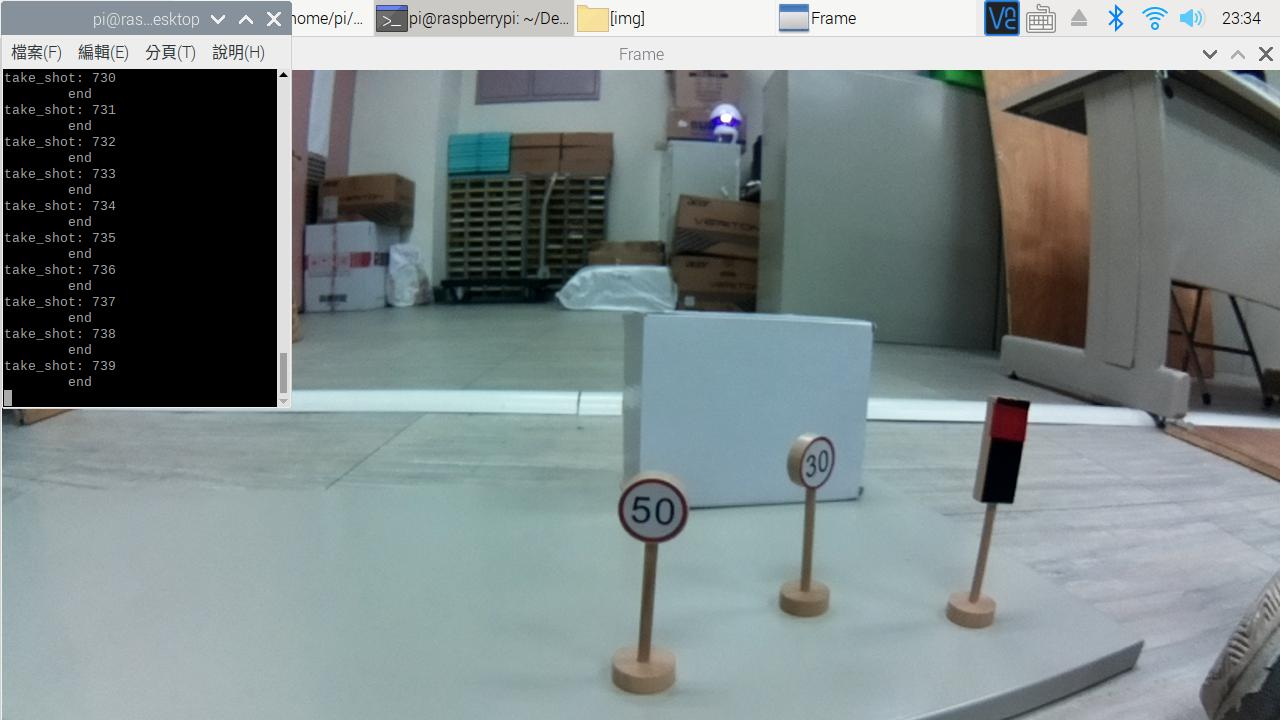Red: (966, 394, 1033, 512)
Speed30: (781, 436, 835, 496)
Speed50: (608, 477, 694, 559)
